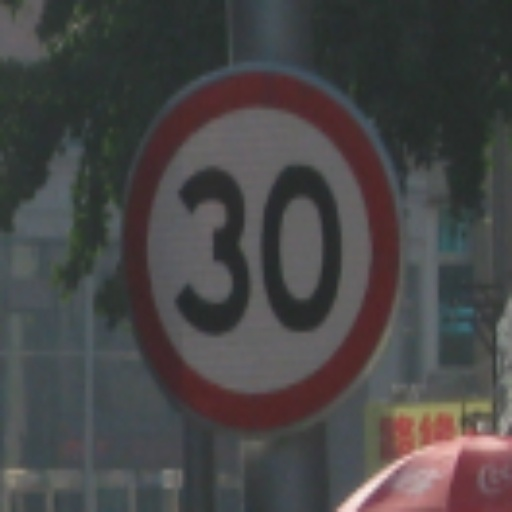Speed limit: (120, 61, 398, 432)
